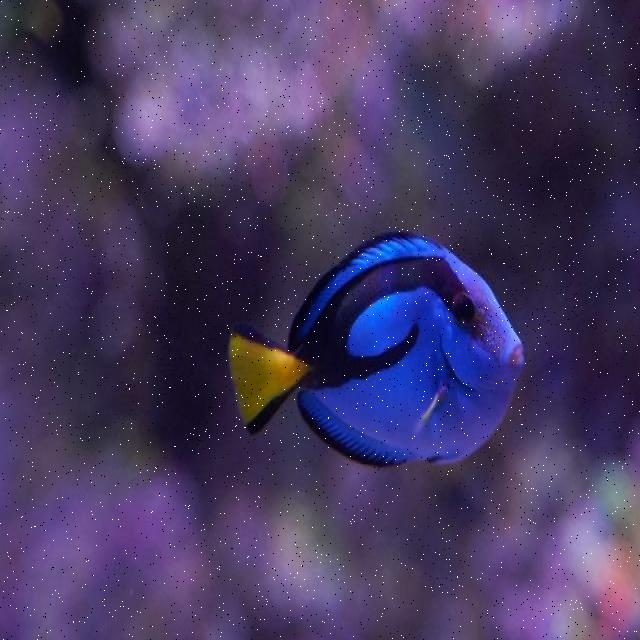fish: (229, 227, 524, 470)
